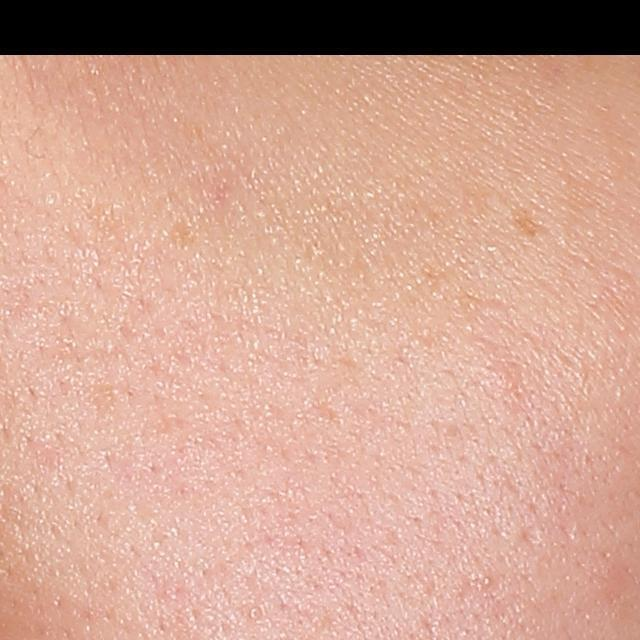comedo: (246, 605, 262, 622)
melasma: (507, 206, 558, 240)
